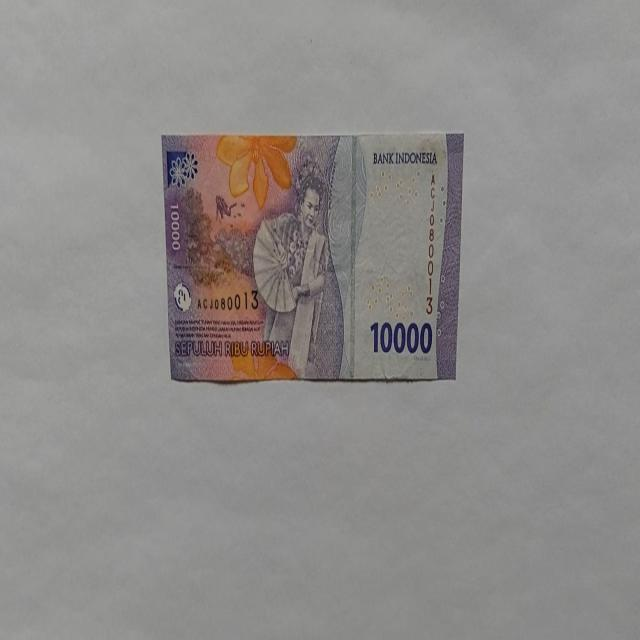sepuluh ribu rupiah: (160, 131, 464, 385)
